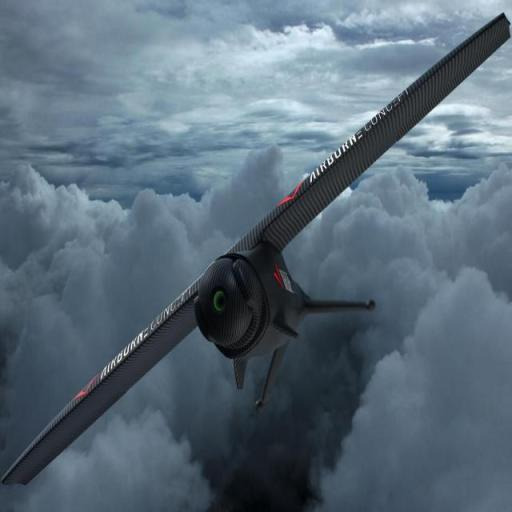uav: (1, 9, 512, 474)
